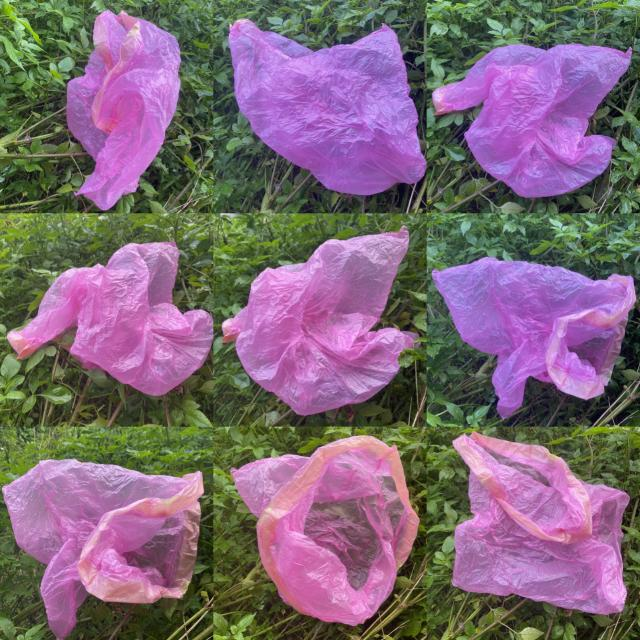Single-layer Plastic: (2, 460, 204, 640), (231, 436, 419, 625), (231, 226, 416, 414), (229, 19, 426, 195), (432, 258, 636, 418), (452, 432, 629, 612), (8, 241, 212, 394), (432, 44, 631, 198), (66, 10, 180, 210)
